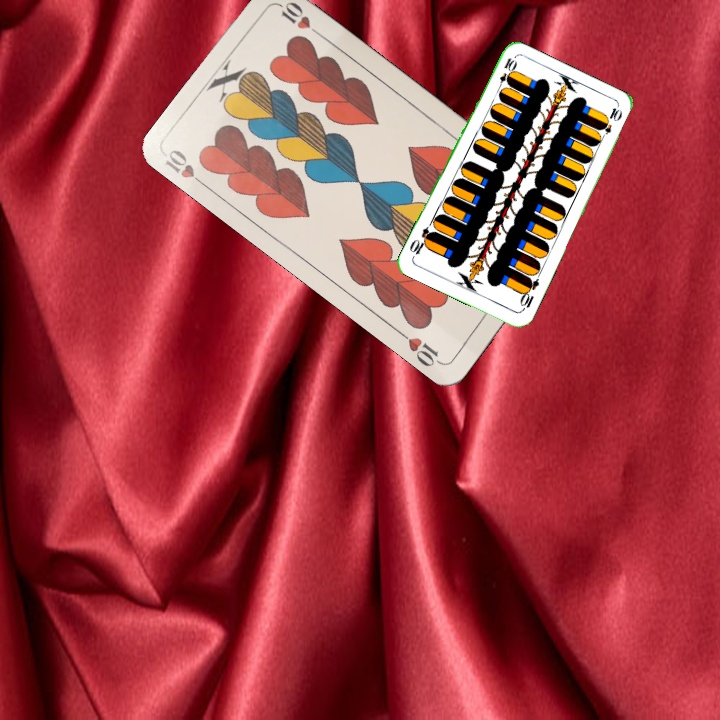E10: (516, 274, 542, 314), (494, 54, 517, 93)
H10: (160, 145, 211, 192)
